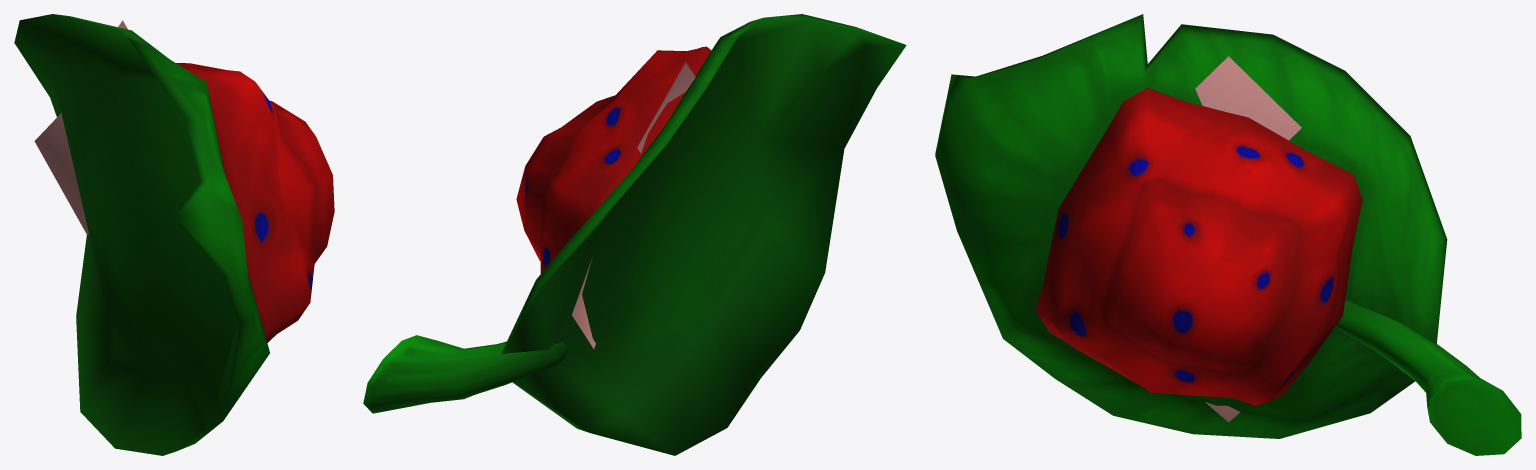
3 views of the same model, side by side, from view 1: azimuth 30°, elevation 25°; view 2: azimuth 150°, elevation 25°; view 3: azimuth 270°, elevation 25° (orthographic). The views are drawn at different scales.
Visible parts, largest first — view 1: "object0007_Editable Poly", "object0044_Editable Poly"; view 2: "object0007_Editable Poly", "object0044_Editable Poly"; view 3: "object0007_Editable Poly", "object0044_Editable Poly".
Boxes of the visible parts, x1,y1,x2,y2 form: "object0007_Editable Poly": [14, 14, 334, 455]; "object0044_Editable Poly": [34, 20, 127, 235]; "object0007_Editable Poly": [363, 14, 906, 455]; "object0044_Editable Poly": [572, 62, 695, 348]; "object0007_Editable Poly": [935, 14, 1521, 455]; "object0044_Editable Poly": [1195, 56, 1301, 422].
Bounding box in the file's own units: 0.2578 × 0.3644 × 0.4736.
